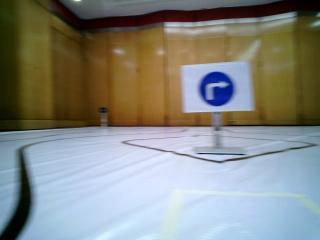right: (186, 68, 247, 110)
